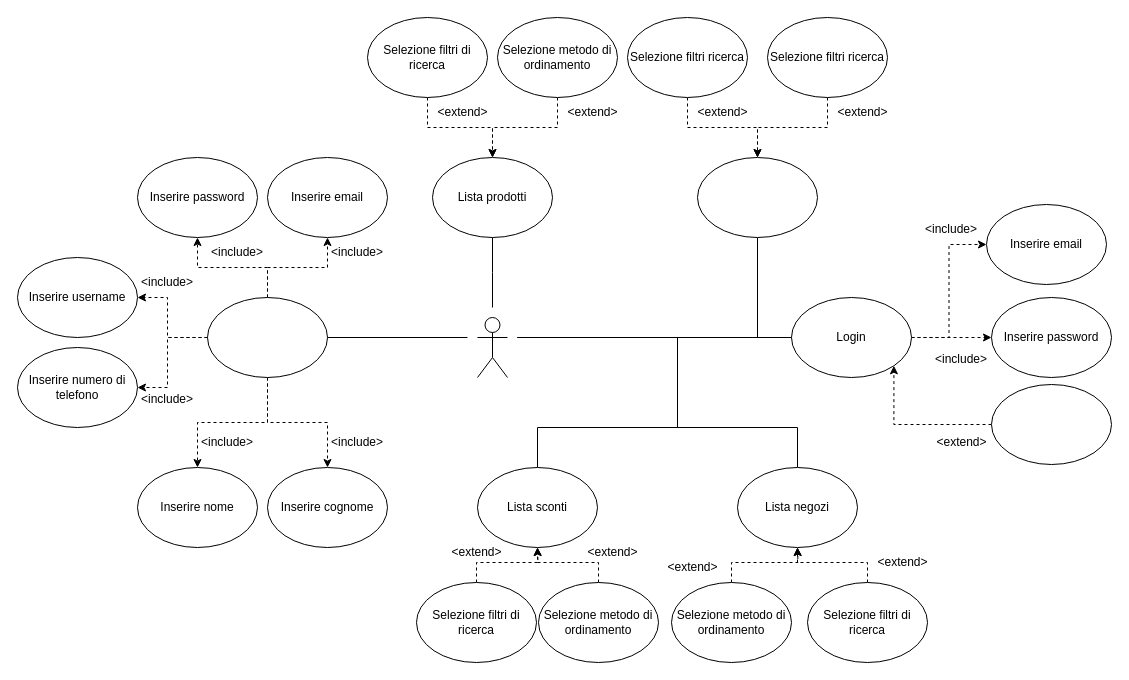
Some shapes in this 1129 by 680 pixel diagram are drawn without their labels. Each missing label, with the centre of its shape:
Lista volantini: the point at 757,197
Recupero password: the point at 1051,424
Registrazione: the point at 267,337
Utente Anonimo: the point at 492,347
